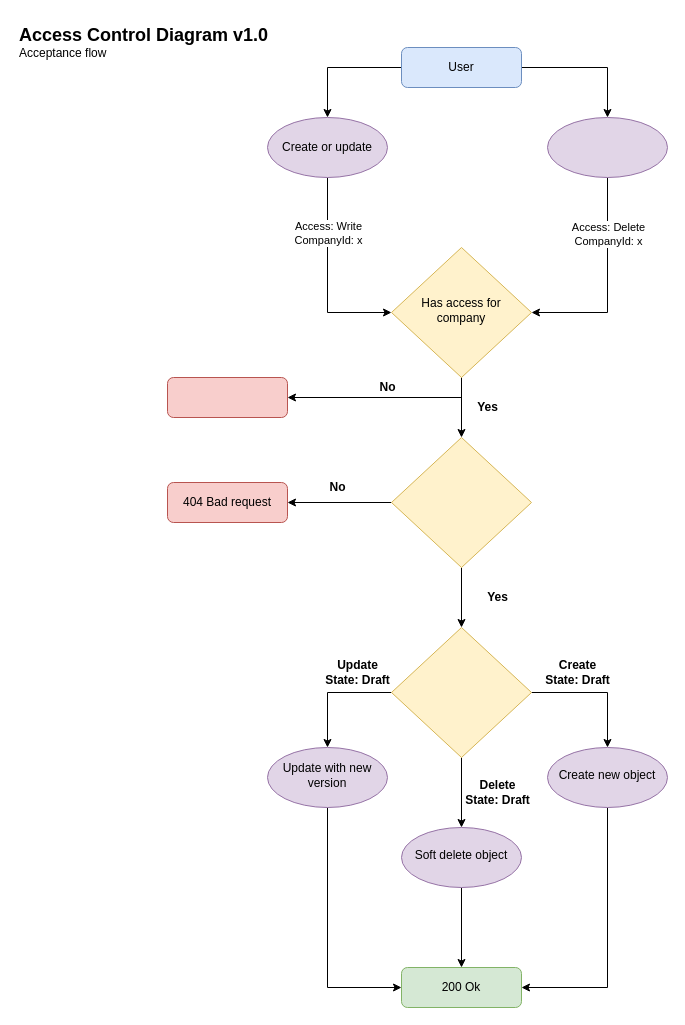
This 685x1025 diagram has some shape labels left out. Here are the shapes that lost their labels. From the top down, the centre of each, then its label:
At (x=607, y=147): "Delete".
At (x=227, y=397): "401 Access denied".
At (x=461, y=502): "Is Valid".
At (x=461, y=692): "Version Control".
